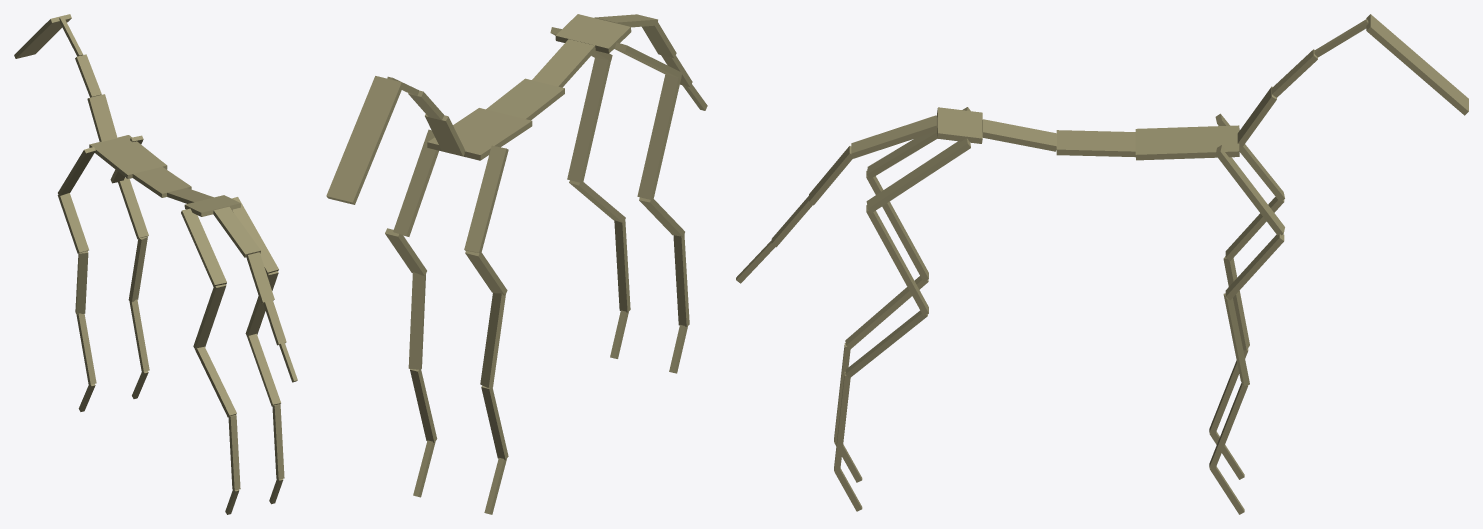
The model's file is Horse Bones.fbx.
3 renders of one model, left to right at view 1: azimuth 30°, elevation 25°; view 2: azimuth 150°, elevation 25°; view 3: azimuth 270°, elevation 25°, orthographic. The views are drawn at different scales.
Parts seen in each view (by area): view 1: Bone Spine 2, Bone Back Shoulder L, Bone Spine Back, Bone Spine 1, Bone Spine 3, Bone Head, Bone Back Shin L, Bone Back Thigh L, Bone Back Shin R, Bone Back Shoulder R, Bone Front Thigh R, Bone Front Thigh L (+13 smaller); view 2: Bone Head, Bone Spine 2, Bone Back Thigh L, Bone Back Thigh R, Bone Front Shoulder L, Bone Spine 1, Bone Thig, Bone Front Shoulder R, Bone Hips, Bone Front Shin R, Bone Front Shin L, Bone Back Foot L (+15 smaller); view 3: Bone Spine 2, Bone Head, Bone Spine 1, Bone Back Shoulder R, Bone Spine Back, Bone Thig, Bone Hips, Bone Front Shoulder R, Bone Back Thigh R, Bone Back Thigh L, Bone Back Shin L, Bone Back Shin R (+3 smaller).
Boxes of the visible parts, x1,y1,x2,y2 form: Bone Spine 2: [89, 135, 167, 178]; Bone Back Shoulder L: [181, 208, 226, 287]; Bone Spine Back: [213, 206, 260, 257]; Bone Spine 1: [132, 166, 191, 197]; Bone Spine 3: [87, 94, 117, 141]; Bone Head: [14, 14, 71, 58]; Bone Back Shin L: [195, 346, 236, 417]; Bone Back Thigh L: [193, 284, 226, 349]; Bone Back Shin R: [247, 333, 280, 406]; Bone Back Shoulder R: [232, 197, 278, 274]; Bone Front Thigh R: [118, 177, 148, 239]; Bone Front Thigh L: [57, 193, 88, 253]; Bone Head: [326, 76, 403, 204]; Bone Spine 2: [427, 108, 532, 160]; Bone Back Thigh L: [637, 74, 681, 200]; Bone Back Thigh R: [567, 57, 610, 182]; Bone Front Shoulder L: [464, 145, 508, 253]; Bone Spine 1: [486, 78, 564, 120]; Bone Thig: [555, 14, 631, 53]; Bone Front Shoulder R: [393, 129, 438, 236]; Bone Hips: [532, 39, 595, 87]; Bone Front Shin R: [408, 272, 425, 369]; Bone Front Shin L: [480, 293, 505, 388]; Bone Back Foot L: [673, 235, 689, 326]; Bone Spine 2: [1135, 125, 1239, 160]; Bone Head: [1366, 14, 1468, 115]; Bone Spine 1: [1056, 130, 1135, 157]; Bone Back Shoulder R: [866, 138, 970, 213]; Bone Spine Back: [851, 115, 937, 158]; Bone Thig: [937, 107, 982, 143]; Bone Hips: [982, 119, 1056, 151]; Bone Front Shoulder R: [1215, 145, 1284, 235]; Bone Back Thigh R: [866, 205, 928, 315]; Bone Back Thigh L: [866, 171, 928, 281]; Bone Back Shin L: [845, 276, 928, 349]; Bone Back Shin R: [845, 310, 927, 378].
Size of the model in its own units: 0.3533 by 1.71 by 2.38.
